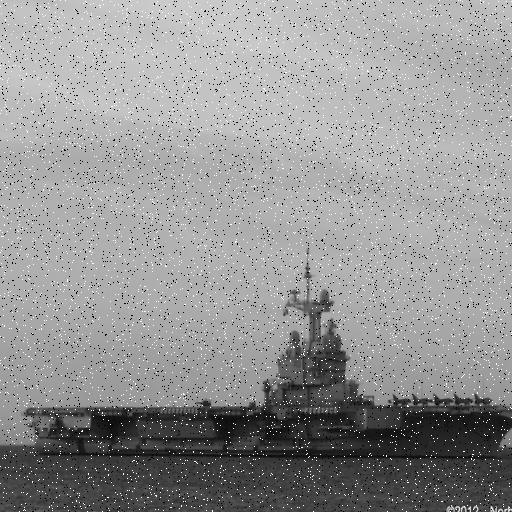Portanaves: (19, 244, 512, 464)
